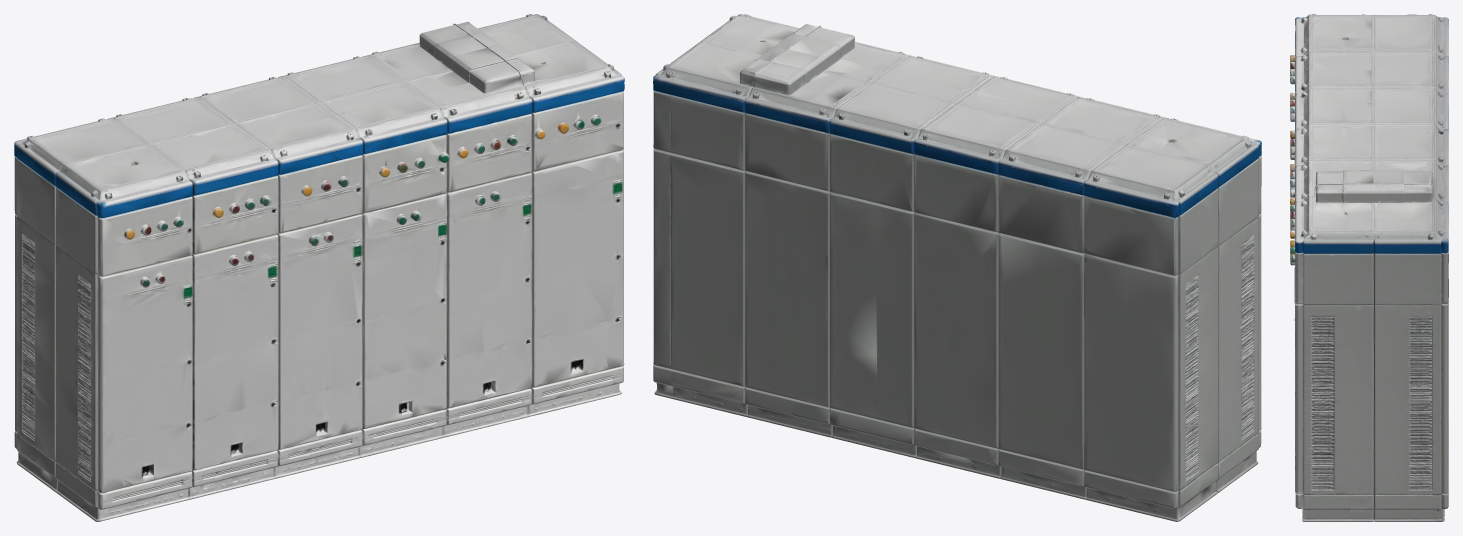
Rendered from generator.glb.
3 renders of one model, left to right at view 1: azimuth 30°, elevation 25°; view 2: azimuth 150°, elevation 25°; view 3: azimuth 270°, elevation 25°, orthographic. The views are drawn at different scales.
Parts seen in each view (by area): view 1: node_0; view 2: node_0; view 3: node_0.
Part boxes in pixels (bbox=[...]): node_0: bbox=[14, 14, 624, 521]; node_0: bbox=[653, 14, 1261, 521]; node_0: bbox=[1290, 14, 1448, 521].
Size of the model in its own units: 0.9962 by 0.6162 by 0.2966.
Materials: 1 (1 with a texture image).
